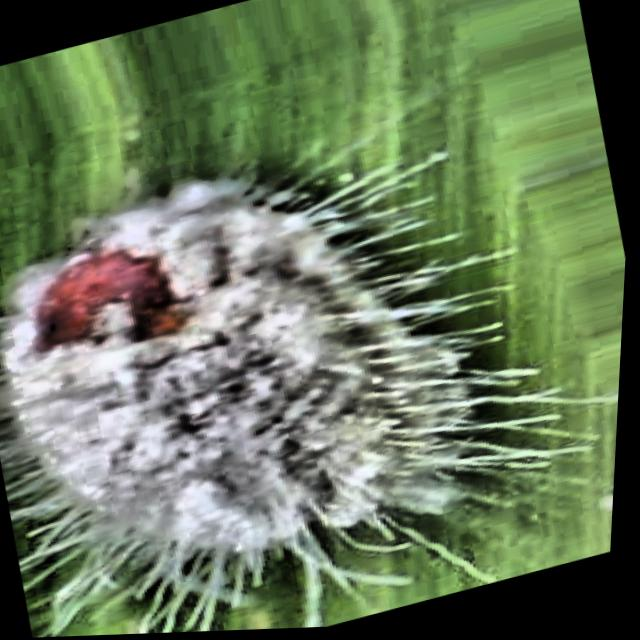Mealy-bug: (0, 53, 621, 640)
